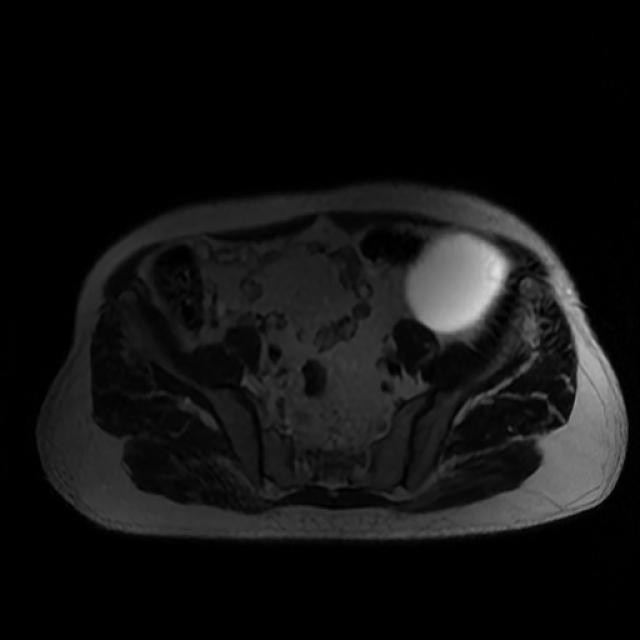sol: (405, 230, 508, 332)
